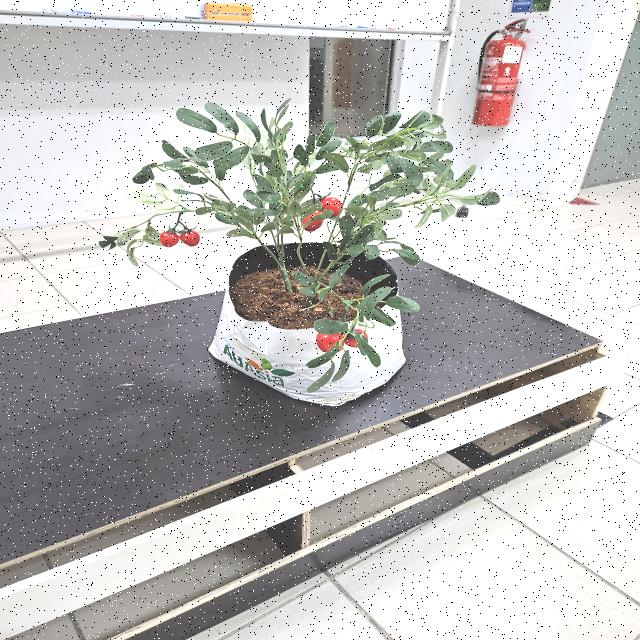Soilbag: (209, 293, 407, 409)
Tomato: (314, 327, 369, 354), (303, 198, 344, 232), (161, 222, 200, 247)
plant: (98, 99, 501, 392)
